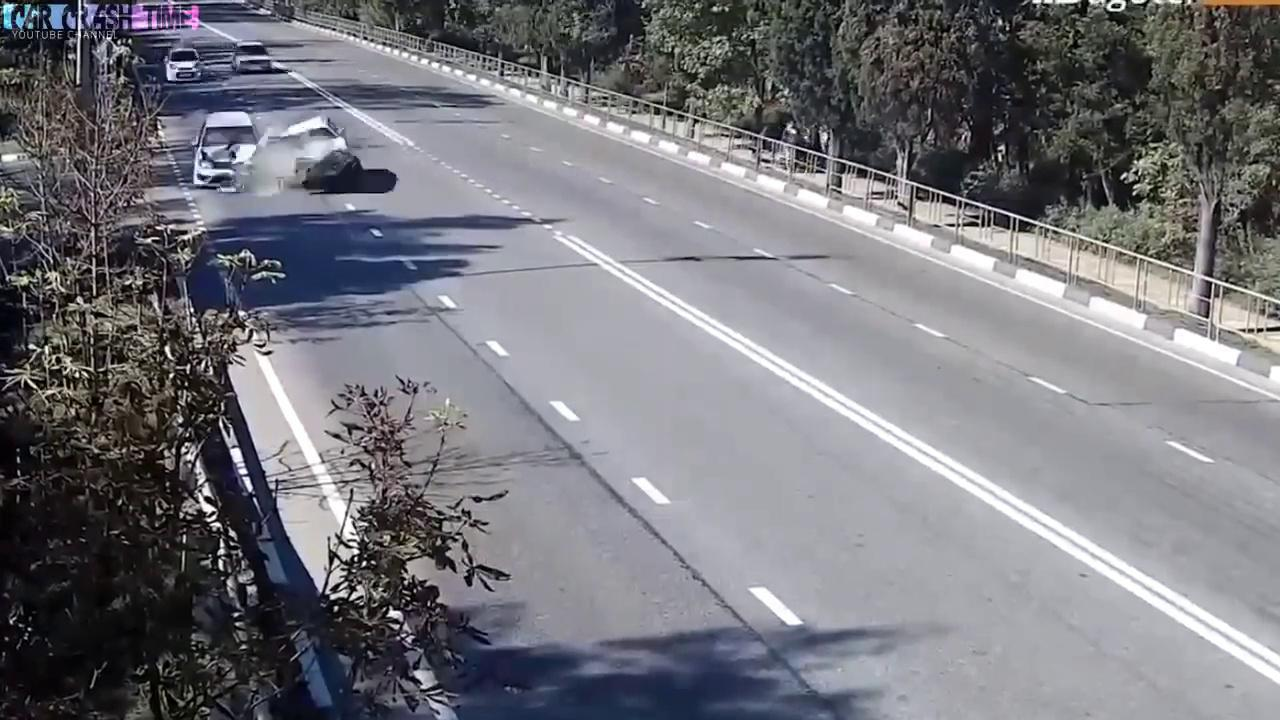car-accident: (186, 105, 360, 197)
